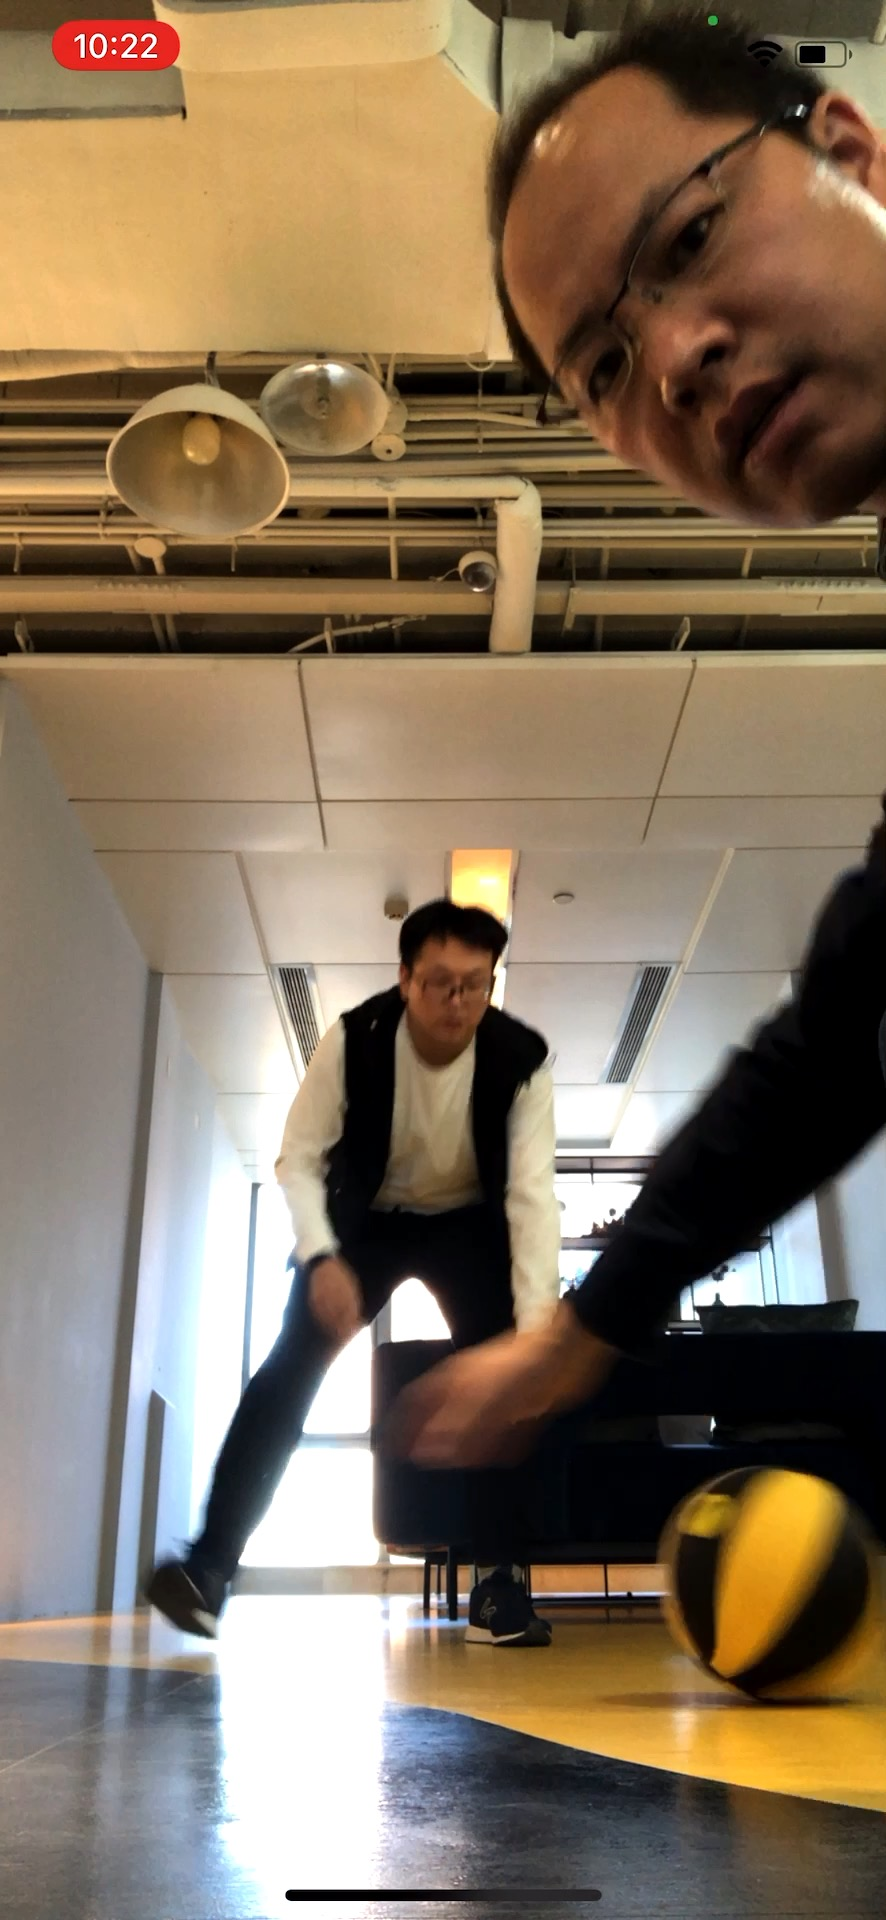ball: (657, 1464, 884, 1698)
